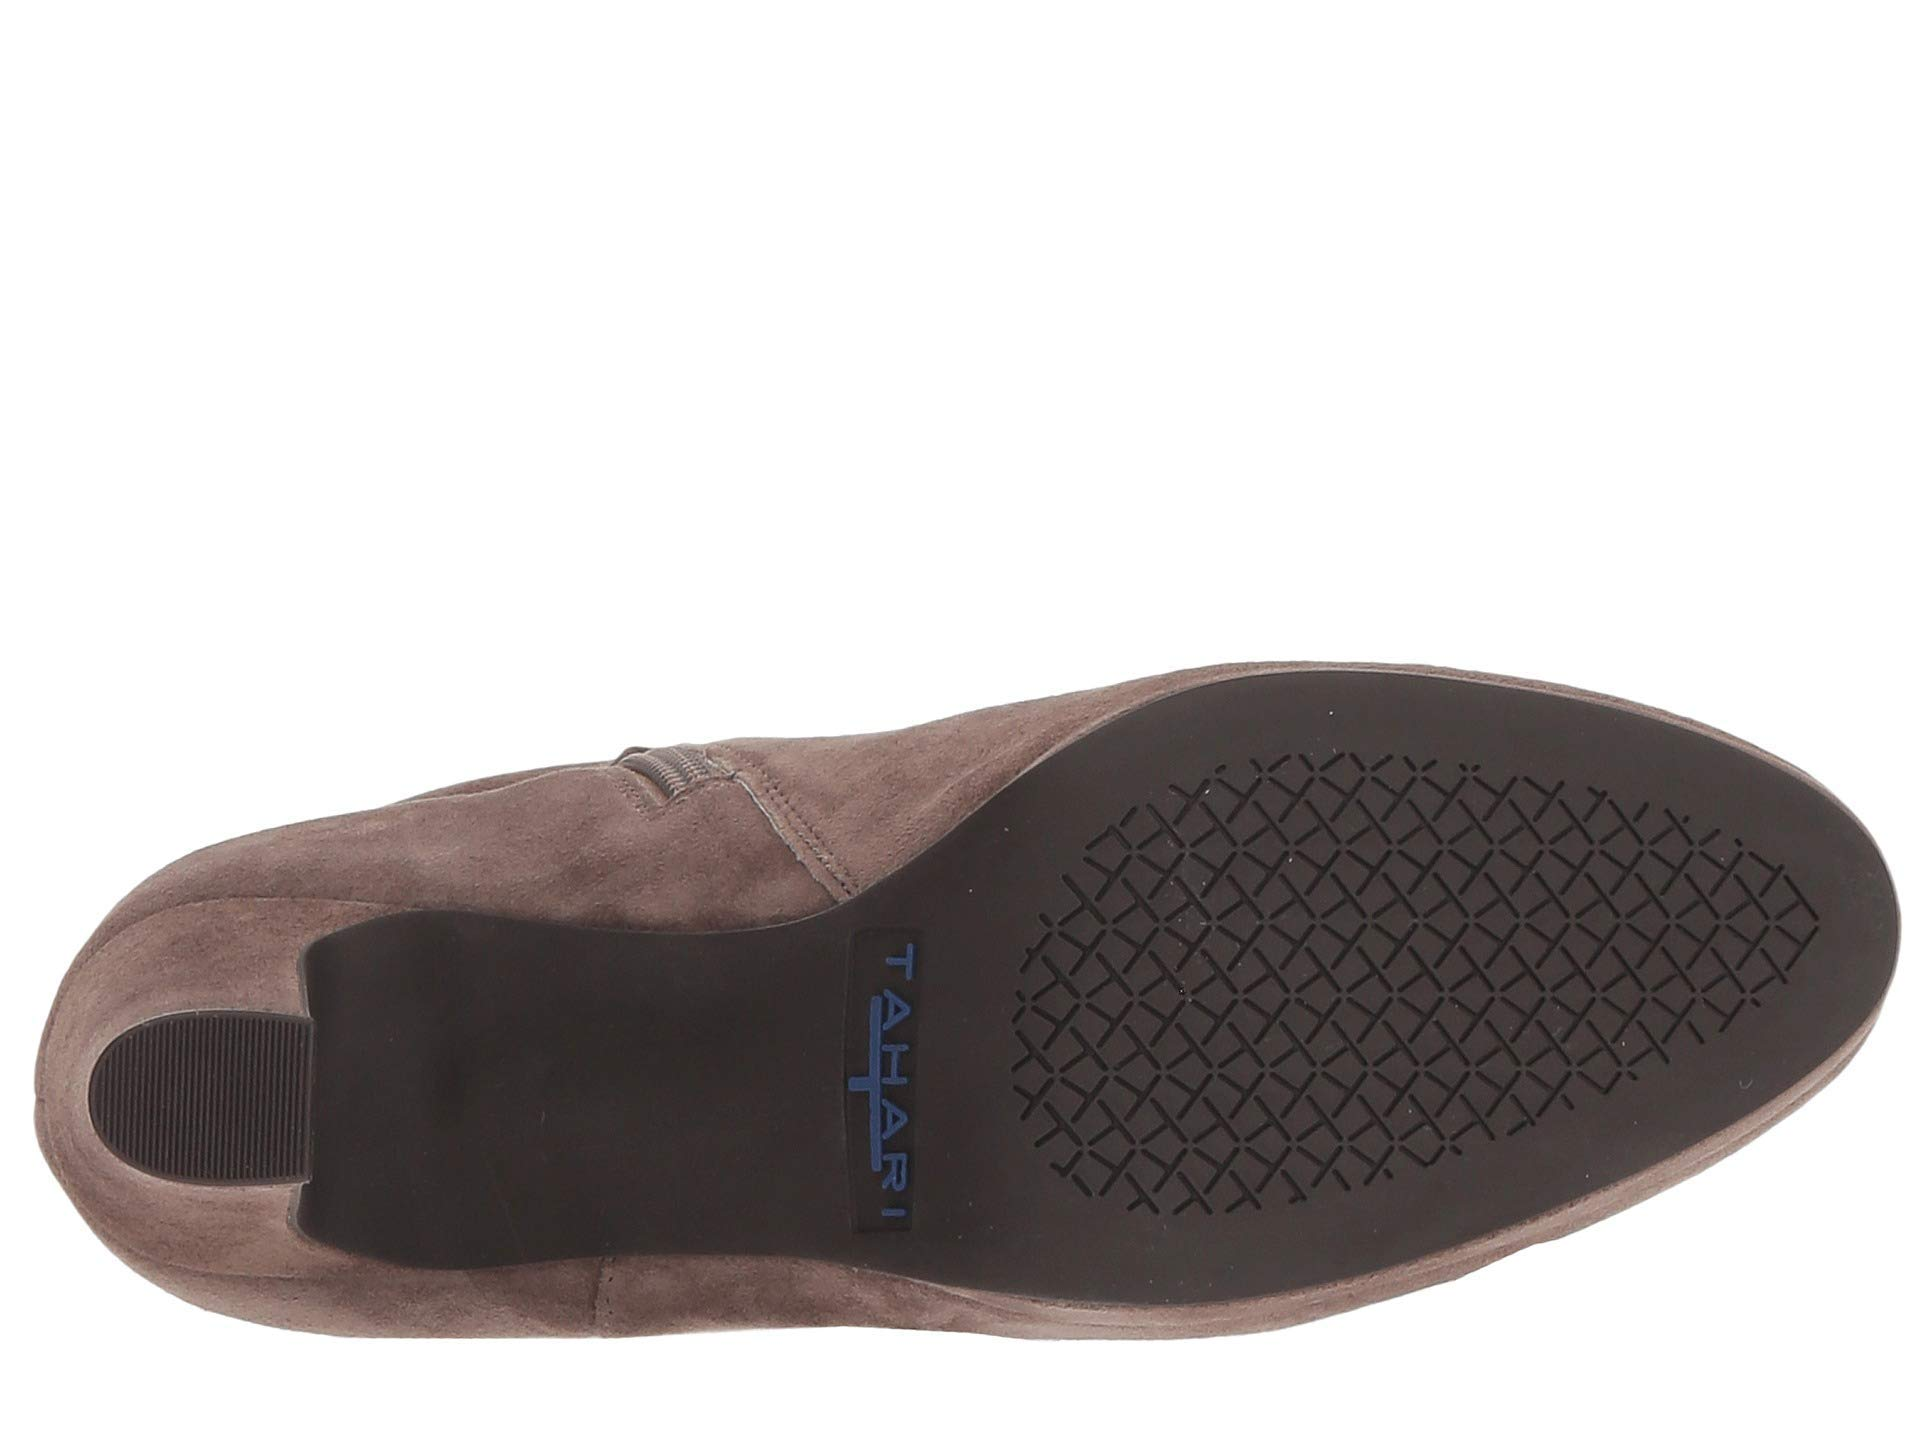line: (132, 1032, 295, 1157)
